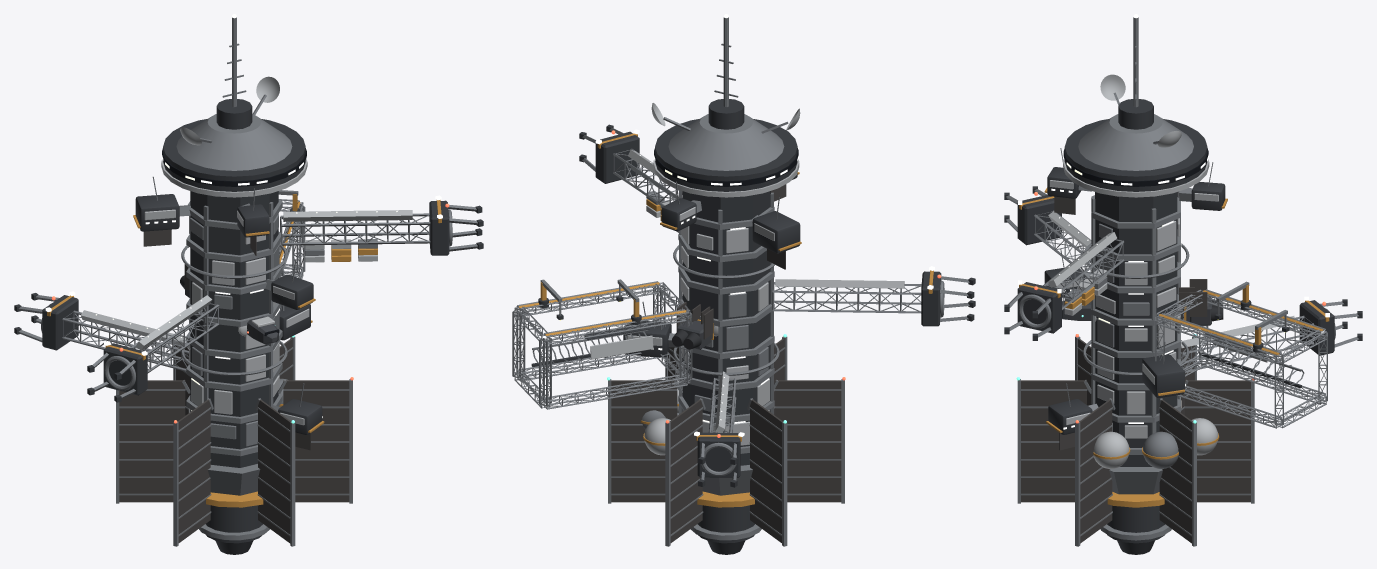
Rendered from sb_orbit_hero.glb.
3 renders of one model, left to right at view 1: azimuth 30°, elevation 25°; view 2: azimuth 150°, elevation 25°; view 3: azimuth 270°, elevation 25°, orthographic.
Parts seen in each view (by area): view 1: SB_ORB_CORE, SB_ORB_DOCKS, SB_ORB_MODULES, SB_ORB_GANTRY, SB_SHIP_TANKER; view 2: SB_ORB_CORE, SB_ORB_DOCKS, SB_ORB_GANTRY, SB_ORB_MODULES, SB_ORB_HULL_WIP, SB_SHIP_TANKER; view 3: SB_ORB_CORE, SB_ORB_DOCKS, SB_ORB_MODULES, SB_ORB_GANTRY, SB_SHIP_TANKER, SB_ORB_HULL_WIP, SB_ORB_CRANE_1, SB_ORB_CRANE_2.
Boxes of the visible parts, <box> form: SB_ORB_CORE: <box>116,14,353,554</box>; SB_ORB_DOCKS: <box>14,195,483,402</box>; SB_ORB_MODULES: <box>133,176,324,450</box>; SB_ORB_GANTRY: <box>278,199,305,311</box>; SB_SHIP_TANKER: <box>180,264,279,344</box>; SB_ORB_CORE: <box>607,14,845,554</box>; SB_ORB_DOCKS: <box>579,124,975,487</box>; SB_ORB_GANTRY: <box>512,281,692,409</box>; SB_ORB_MODULES: <box>623,172,801,455</box>; SB_ORB_HULL_WIP: <box>531,324,653,366</box>; SB_SHIP_TANKER: <box>672,302,718,349</box>; SB_ORB_CORE: <box>1016,14,1254,554</box>; SB_ORB_DOCKS: <box>1004,186,1362,372</box>; SB_ORB_MODULES: <box>1044,148,1227,468</box>; SB_ORB_GANTRY: <box>1155,289,1327,428</box>; SB_SHIP_TANKER: <box>1062,279,1223,325</box>; SB_ORB_HULL_WIP: <box>1198,333,1304,388</box>; SB_ORB_CRANE_1: <box>1214,281,1251,319</box>; SB_ORB_CRANE_2: <box>1253,310,1289,352</box>.
Size of the model in its own units: 102 by 132 by 80.45.
